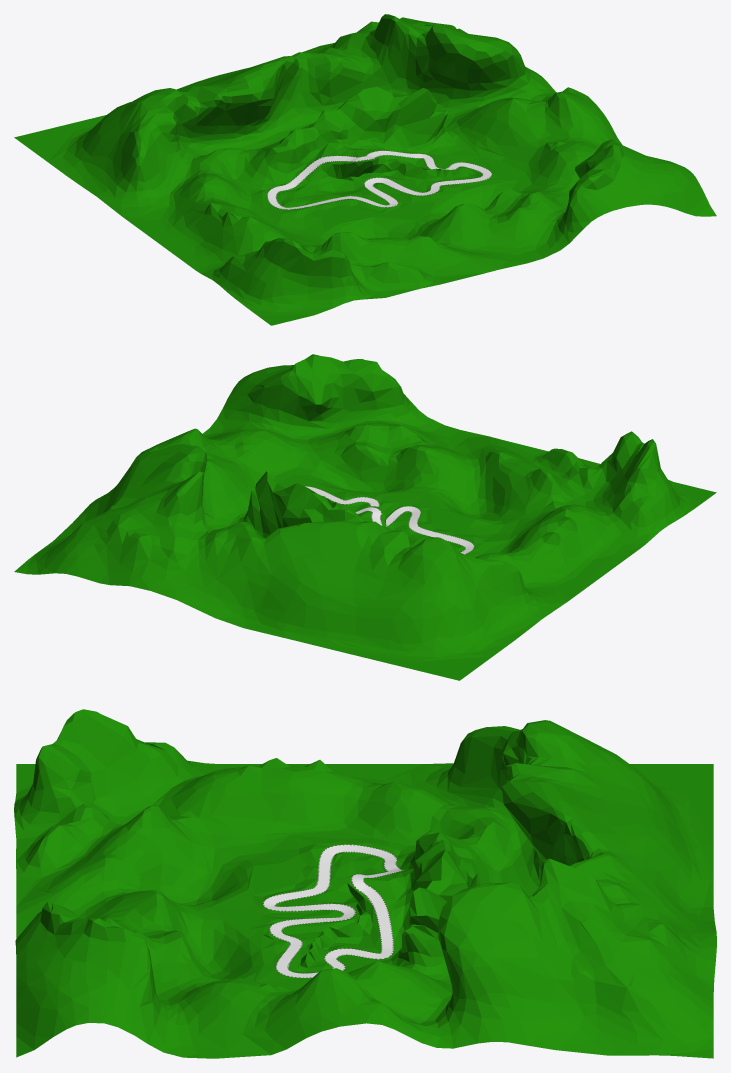
The model's file is racing_track_3.fbx.
3 views of the same model, one above another, from view 1: azimuth 30°, elevation 25°; view 2: azimuth 150°, elevation 25°; view 3: azimuth 270°, elevation 25° (orthographic). The views are drawn at different scales.
Visible parts, largest first — view 1: Track3_Terrain, Track3_Road, Track3_Apex; view 2: Track3_Terrain, Track3_Road; view 3: Track3_Terrain, Track3_Road, Track3_Apex, Track3_Apex.001.
Boxes of the visible parts, box(x1,y1,x2,y2) form: Track3_Terrain: box(14, 14, 716, 325); Track3_Road: box(268, 151, 491, 209); Track3_Apex: box(267, 150, 491, 209); Track3_Terrain: box(14, 354, 716, 680); Track3_Road: box(306, 486, 473, 554); Track3_Terrain: box(14, 709, 716, 1058); Track3_Road: box(264, 845, 401, 977); Track3_Apex: box(263, 844, 403, 977); Track3_Apex.001: box(274, 851, 389, 973).
Size of the model in its own units: 120707 by 26843 by 120988.
